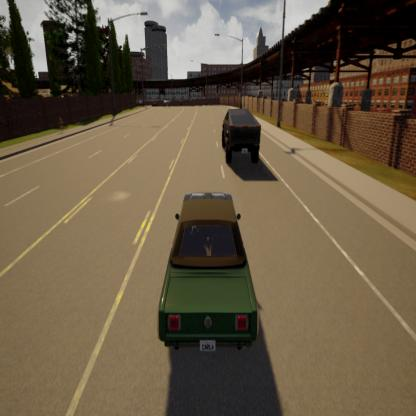Cars: (148, 185, 266, 358), (215, 105, 264, 168)
Pedestrian: (56, 114, 65, 136)
